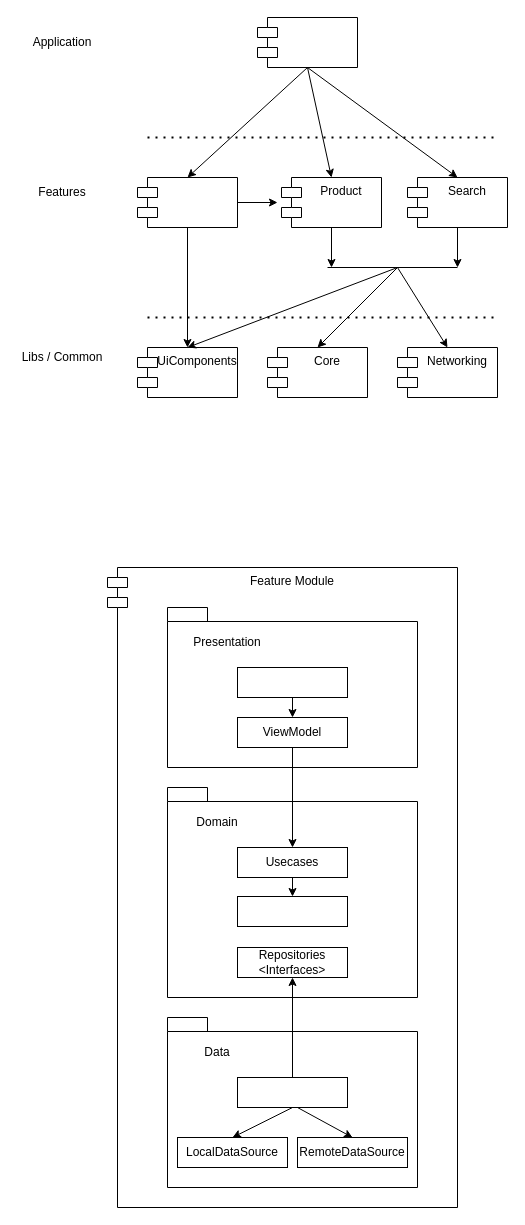
Some shapes in this 525 by 1225 pixel diagram are drawn without their labels. The shapes that lost their labels are listed below. From the top down, each one's centre as x and y in pixels, then its label:
At pixel 307 42: "APP".
At pixel 187 202: "Home".
At pixel 292 682: "Composables".
At pixel 292 911: "Models".
At pixel 292 1092: "Repositories".
